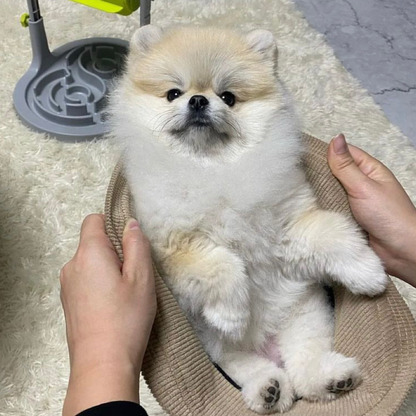Pomeranian: (112, 27, 388, 391)
